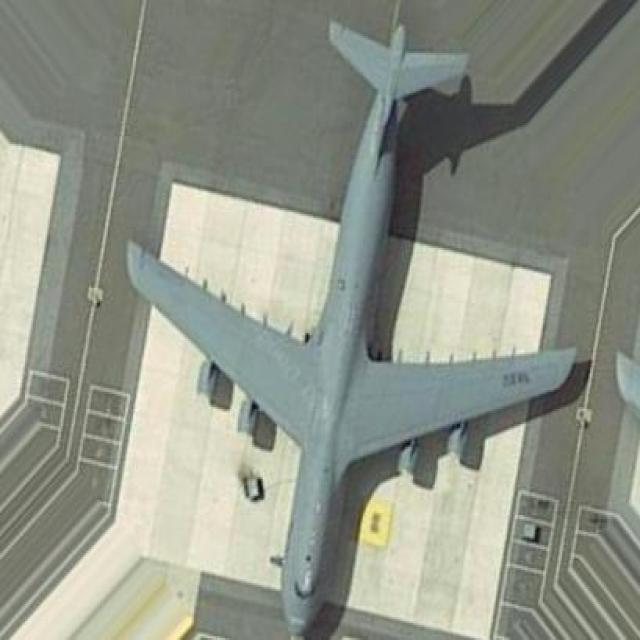C-5_TopDown: (122, 4, 593, 638)
